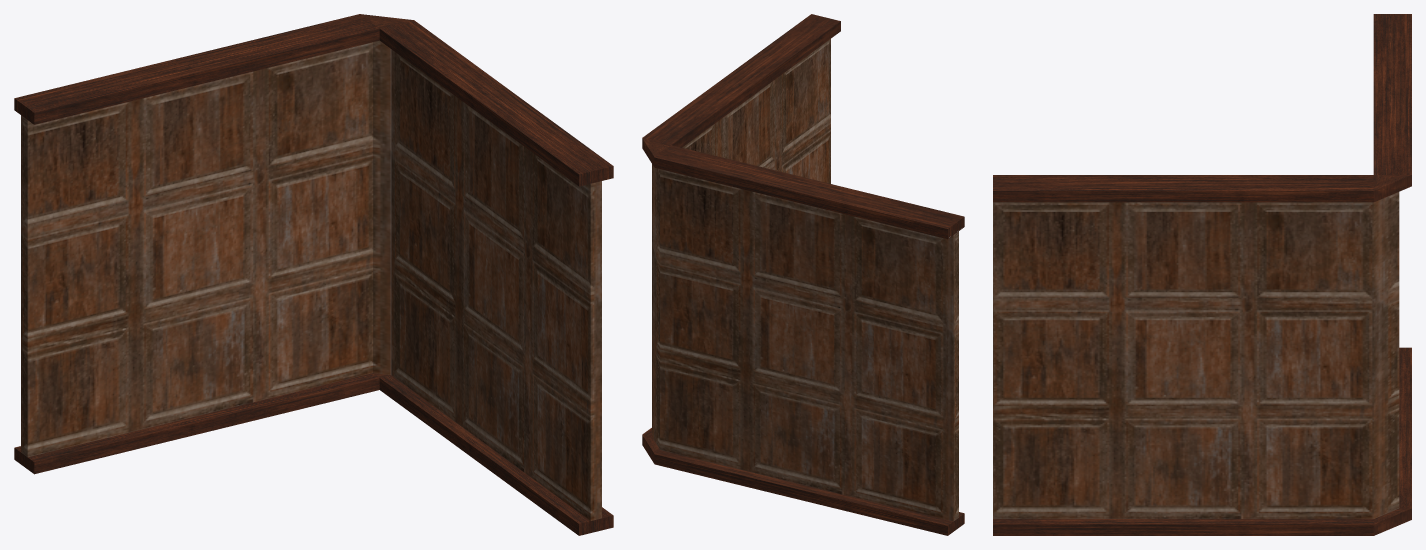
The model's file is Corner_Final.fbx.
The picture shows the model from 3 angles, left to right: view 1: azimuth 30°, elevation 25°; view 2: azimuth 150°, elevation 25°; view 3: azimuth 270°, elevation 25°; orthographic projection. The views are drawn at different scales.
Visible parts, largest first — view 1: Corner; view 2: Corner; view 3: Corner.
Part boxes in pixels (left/top/right/bottom): Corner: left=14, top=14, right=613, bottom=535; Corner: left=642, top=14, right=964, bottom=535; Corner: left=993, top=14, right=1411, bottom=535.
Size of the model in its own units: 330 by 300 by 330.
2 materials, 2 textured.
